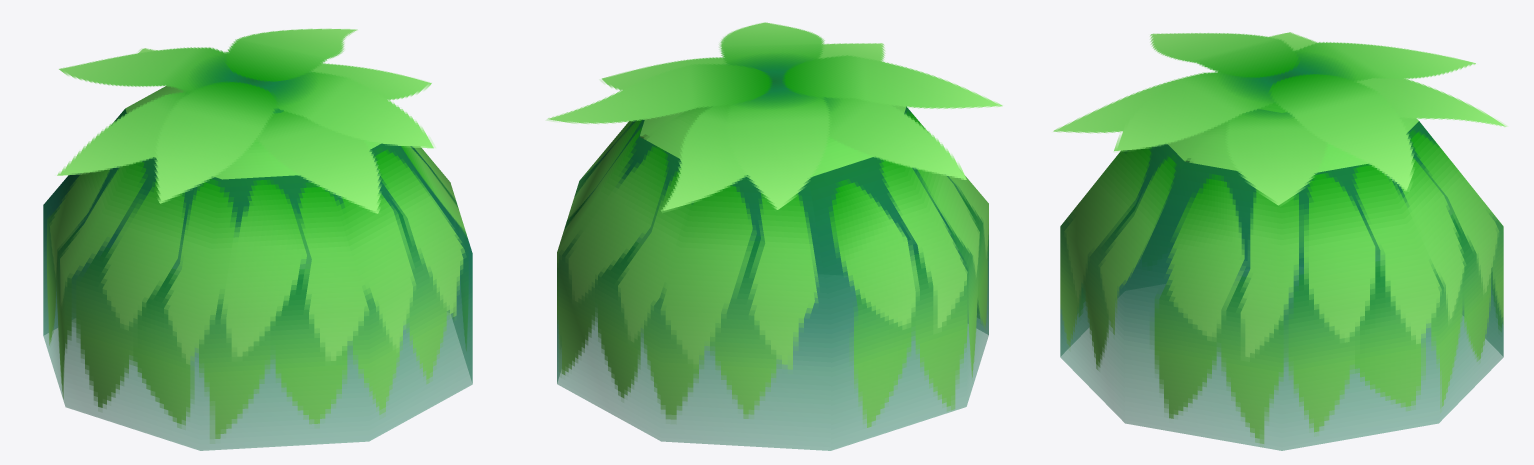
Rendered from BushTop.glb.
The picture shows the model from 3 angles, left to right: view 1: azimuth 30°, elevation 25°; view 2: azimuth 150°, elevation 25°; view 3: azimuth 270°, elevation 25°; orthographic projection.
Parts seen in each view (by area): view 1: Bush; view 2: Bush; view 3: Bush.
Part boxes in pixels (x1=…): Bush: x1=43, y1=28, x2=472, y2=450; Bush: x1=546, y1=22, x2=1002, y2=450; Bush: x1=1053, y1=32, x2=1507, y2=450.
Bounding box in the file's own units: 2.04 × 1.32 × 2.04.
Materials: 2 (2 with a texture image).
